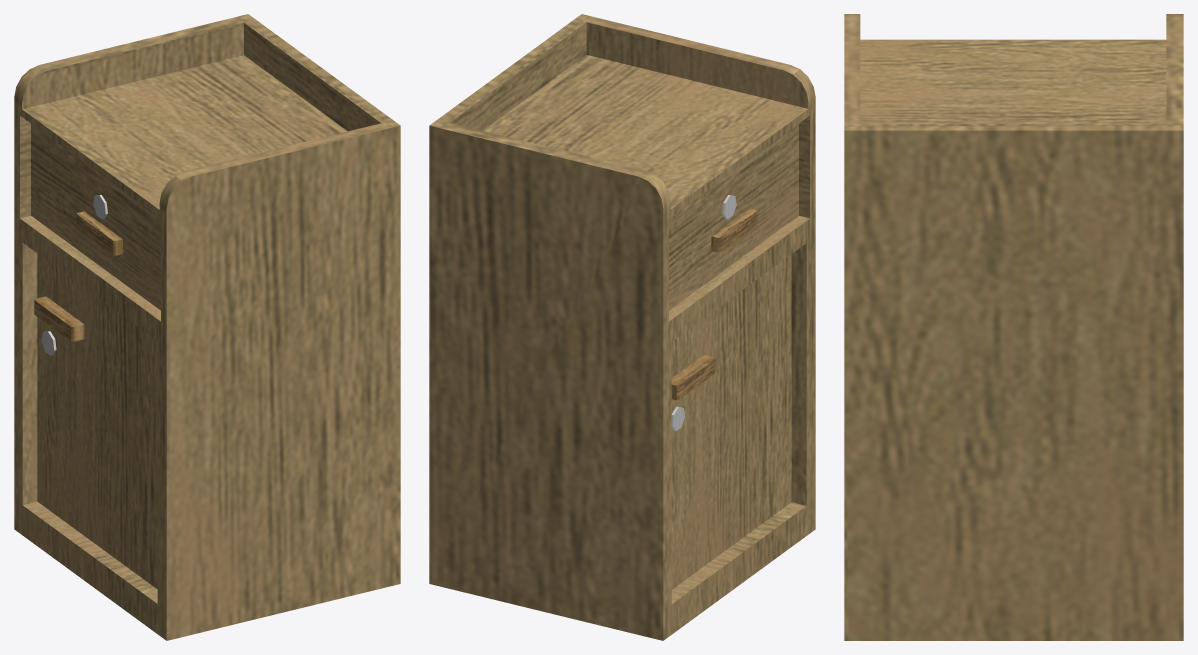
File: bed_cabinet.fbx
The picture shows the model from 3 angles, left to right: view 1: azimuth 30°, elevation 25°; view 2: azimuth 150°, elevation 25°; view 3: azimuth 270°, elevation 25°; orthographic projection. The views are drawn at different scales.
Parts seen in each view (by area): view 1: pCube4; view 2: pCube4; view 3: pCube4.
Part boxes in pixels (<box>): pCube4: <box>14,14,400,640</box>; pCube4: <box>429,14,815,640</box>; pCube4: <box>844,14,1183,640</box>.
Size of the model in its own units: 0.8951 by 1.68 by 1.01.
